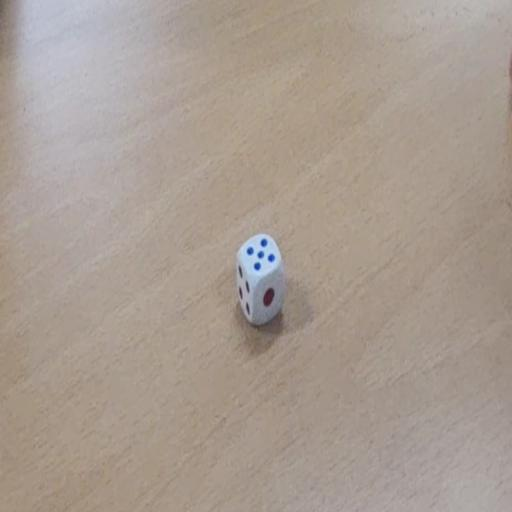dice_5: (236, 234, 284, 328)
